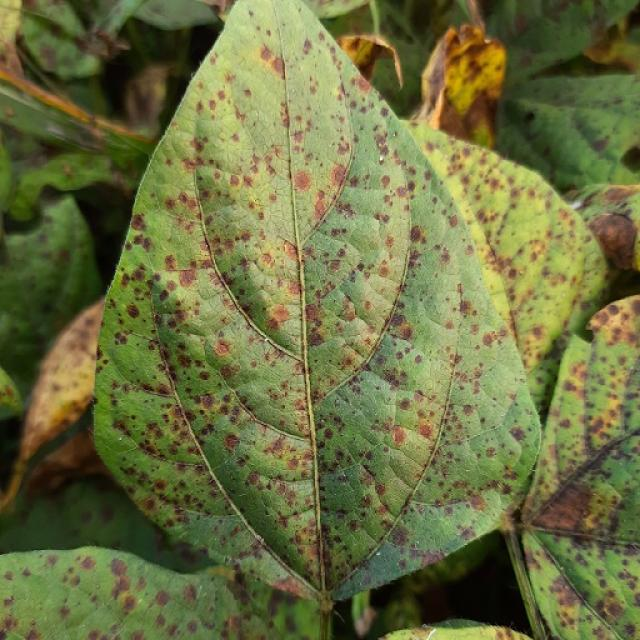Anthracnose: (398, 228, 473, 347), (490, 186, 557, 280), (105, 331, 181, 401), (529, 475, 617, 535), (588, 360, 632, 439), (586, 209, 639, 272), (315, 462, 363, 513), (579, 185, 640, 217), (289, 167, 324, 200), (230, 290, 263, 325), (346, 35, 377, 66), (552, 583, 579, 617), (384, 310, 414, 339), (269, 578, 304, 594), (621, 144, 640, 169), (270, 304, 291, 323), (109, 558, 128, 579), (513, 13, 530, 36), (178, 267, 197, 287), (282, 239, 301, 259), (590, 135, 609, 153), (218, 269, 236, 287), (376, 136, 388, 162), (270, 56, 285, 76), (307, 330, 324, 347), (154, 589, 170, 607), (182, 583, 197, 602), (223, 434, 239, 451), (214, 341, 230, 357), (418, 422, 433, 439), (125, 304, 140, 319), (80, 555, 96, 569), (410, 227, 423, 243), (186, 620, 199, 634), (523, 110, 536, 124), (62, 163, 74, 177), (302, 39, 313, 54), (380, 175, 391, 189), (4, 106, 15, 118), (3, 570, 14, 581), (317, 416, 327, 428), (3, 597, 13, 608), (91, 396, 98, 405), (291, 87, 297, 95), (95, 584, 100, 591)
Blackgram: (95, 0, 538, 599)
